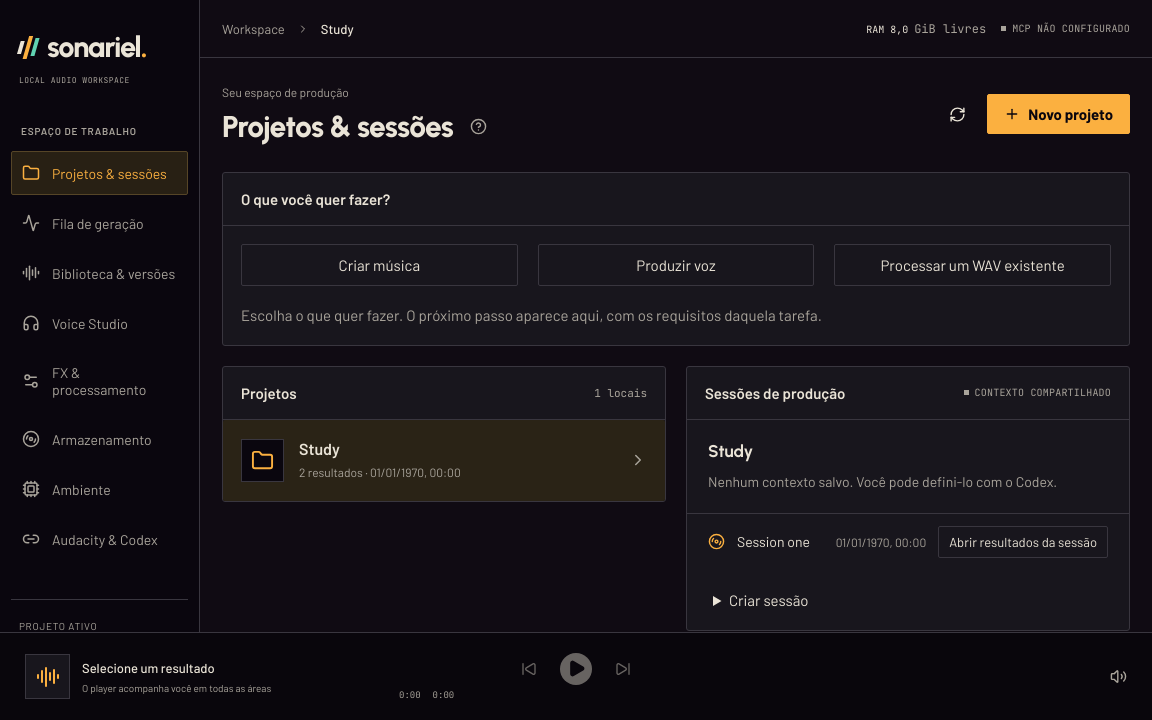
Test: opens session results with the real session filter and preserves it across module navigation
Check: the heading "O que você quer fazer?" is shown, box [241,190,390,208]
Step 1. Click the button "Abrir resultados da sessão" → click(1023, 542), box [938,526,1108,558]
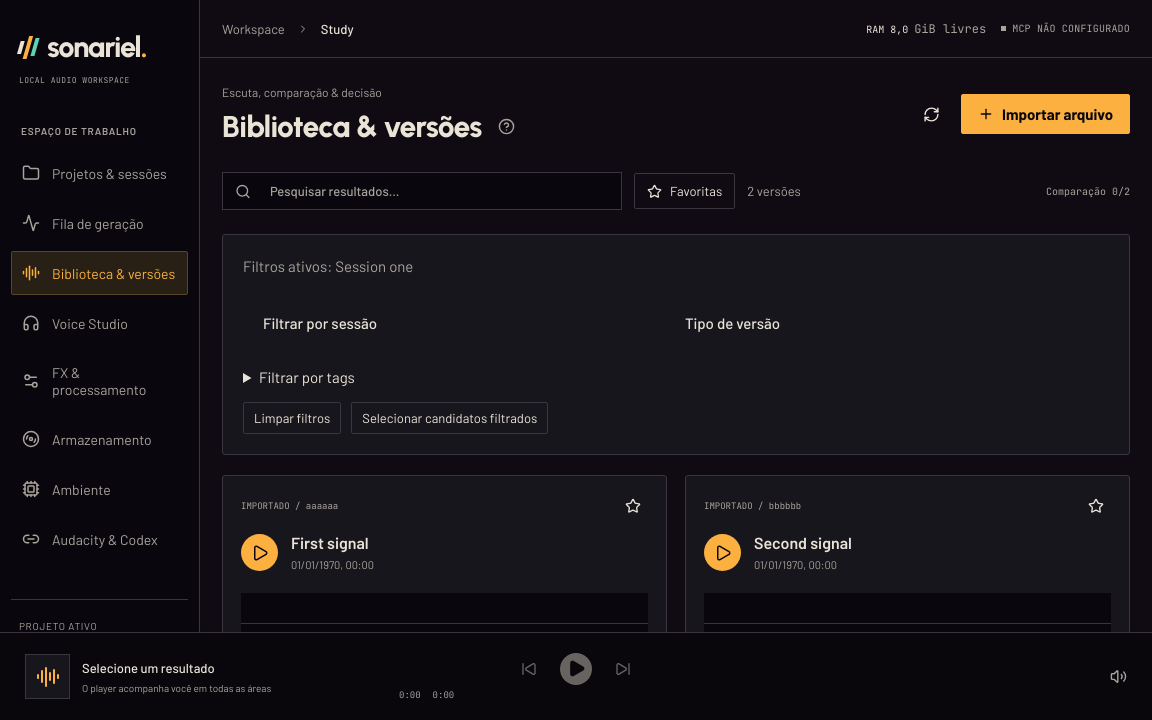
Check: the text "Filtros ativos: Session one" is shown, box [243,257,413,275]
Step 2. Click the button "Voice Studio" → click(100, 323), box [11,301,188,345]
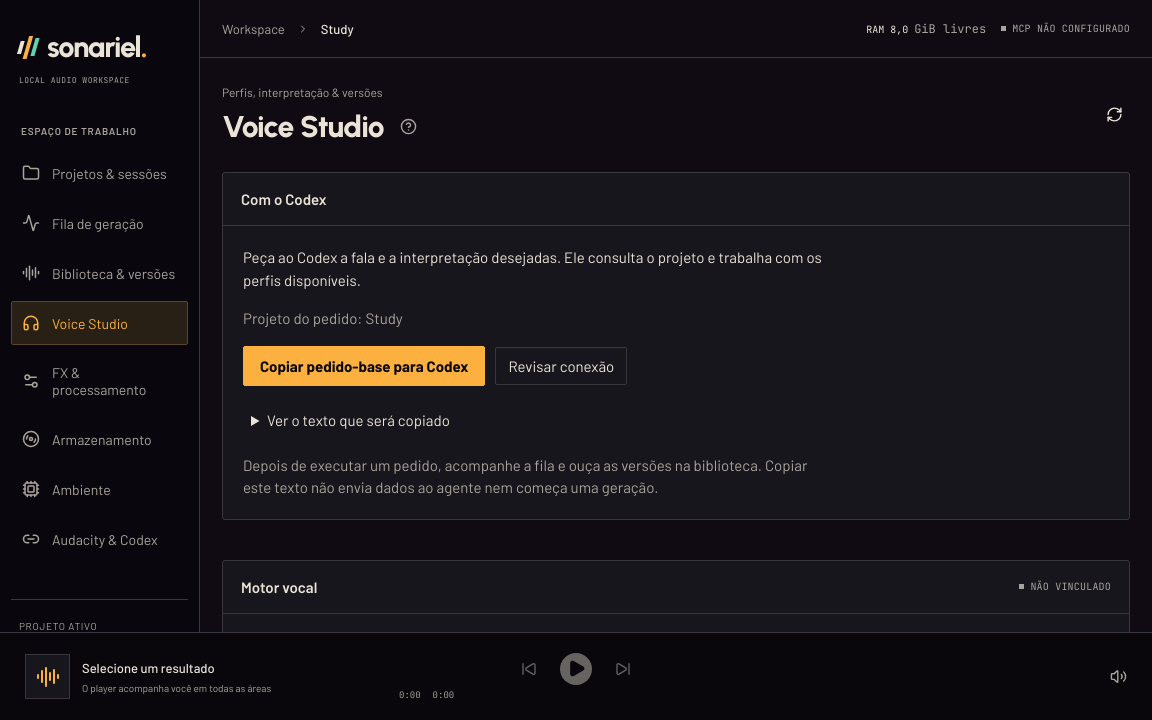
Step 3. Click the button "Biblioteca & versões" → click(100, 273), box [11,251,188,295]
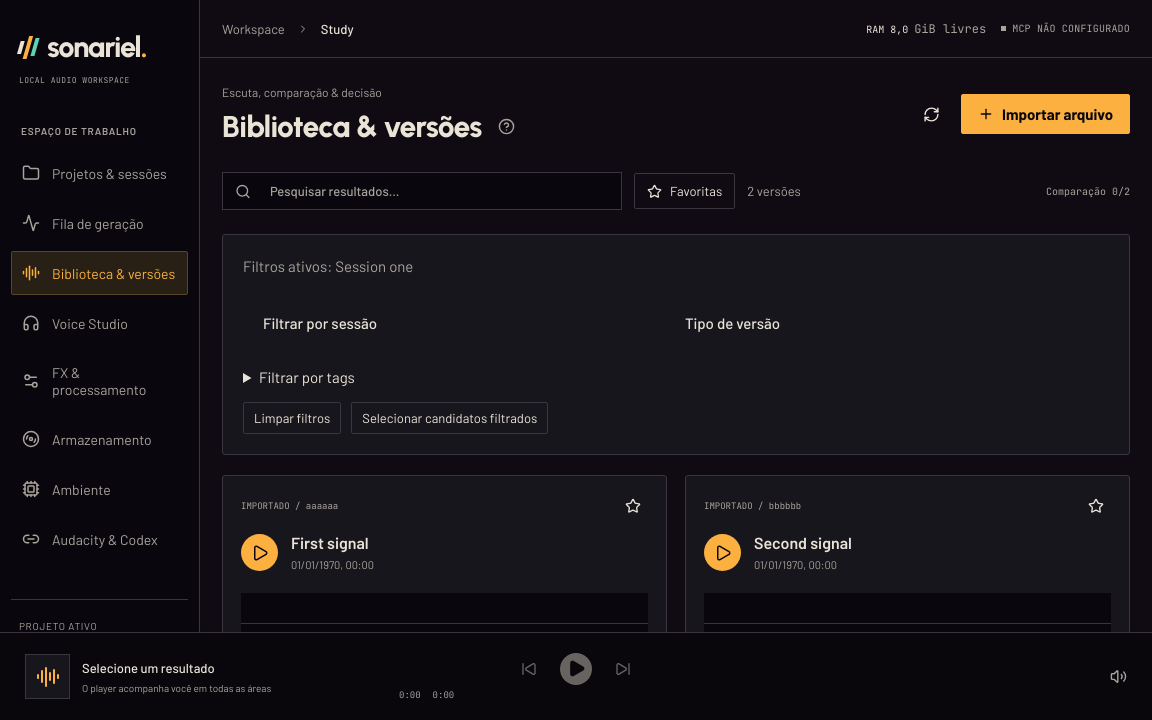
Check: the text "Filtros ativos: Session one" is shown, box [243,257,413,275]
